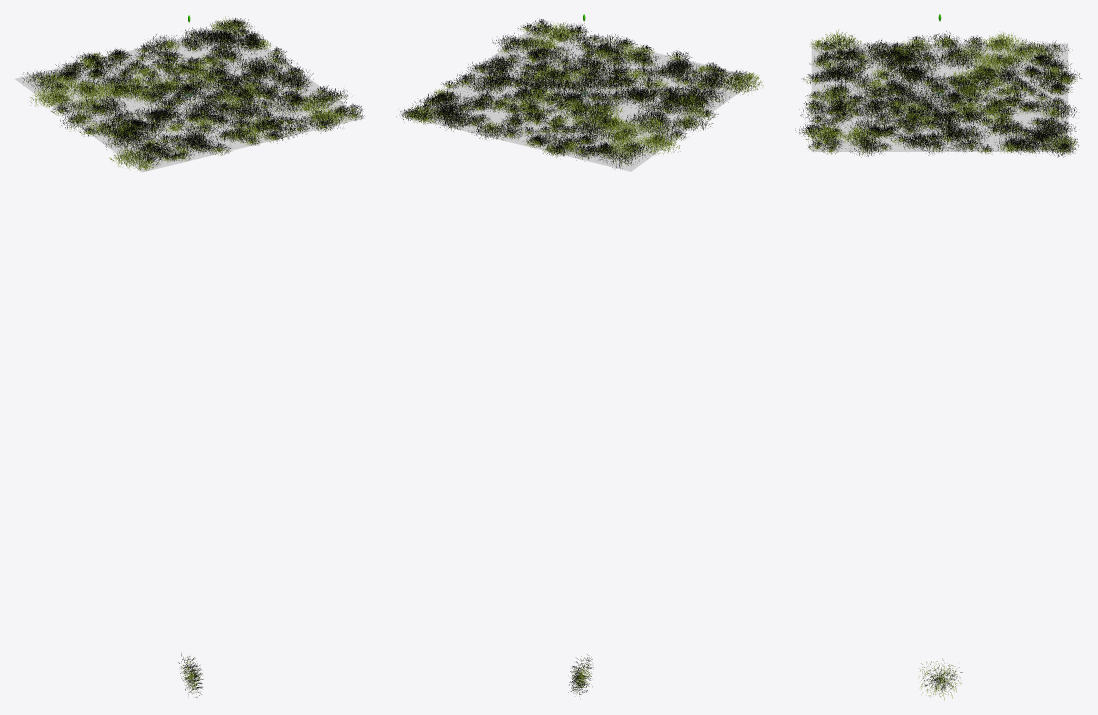
The model's file is Seeding.fbx.
3 views of the same model, side by side, from view 1: azimuth 30°, elevation 25°; view 2: azimuth 150°, elevation 25°; view 3: azimuth 270°, elevation 25° (orthographic).
Visible parts, largest first — view 1: Plane; view 2: Plane; view 3: Plane.
Part boxes in pixels (x1=…): Plane: x1=15, y1=26, x2=363, y2=172; Plane: x1=409, y1=24, x2=758, y2=171; Plane: x1=811, y1=43, x2=1068, y2=151.
Bounding box in the file's own units: 467 × 1180 × 453.
